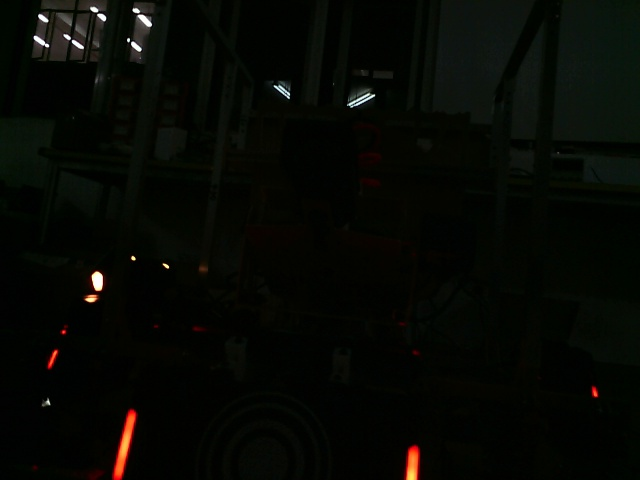lamp: (112, 408, 136, 480)
